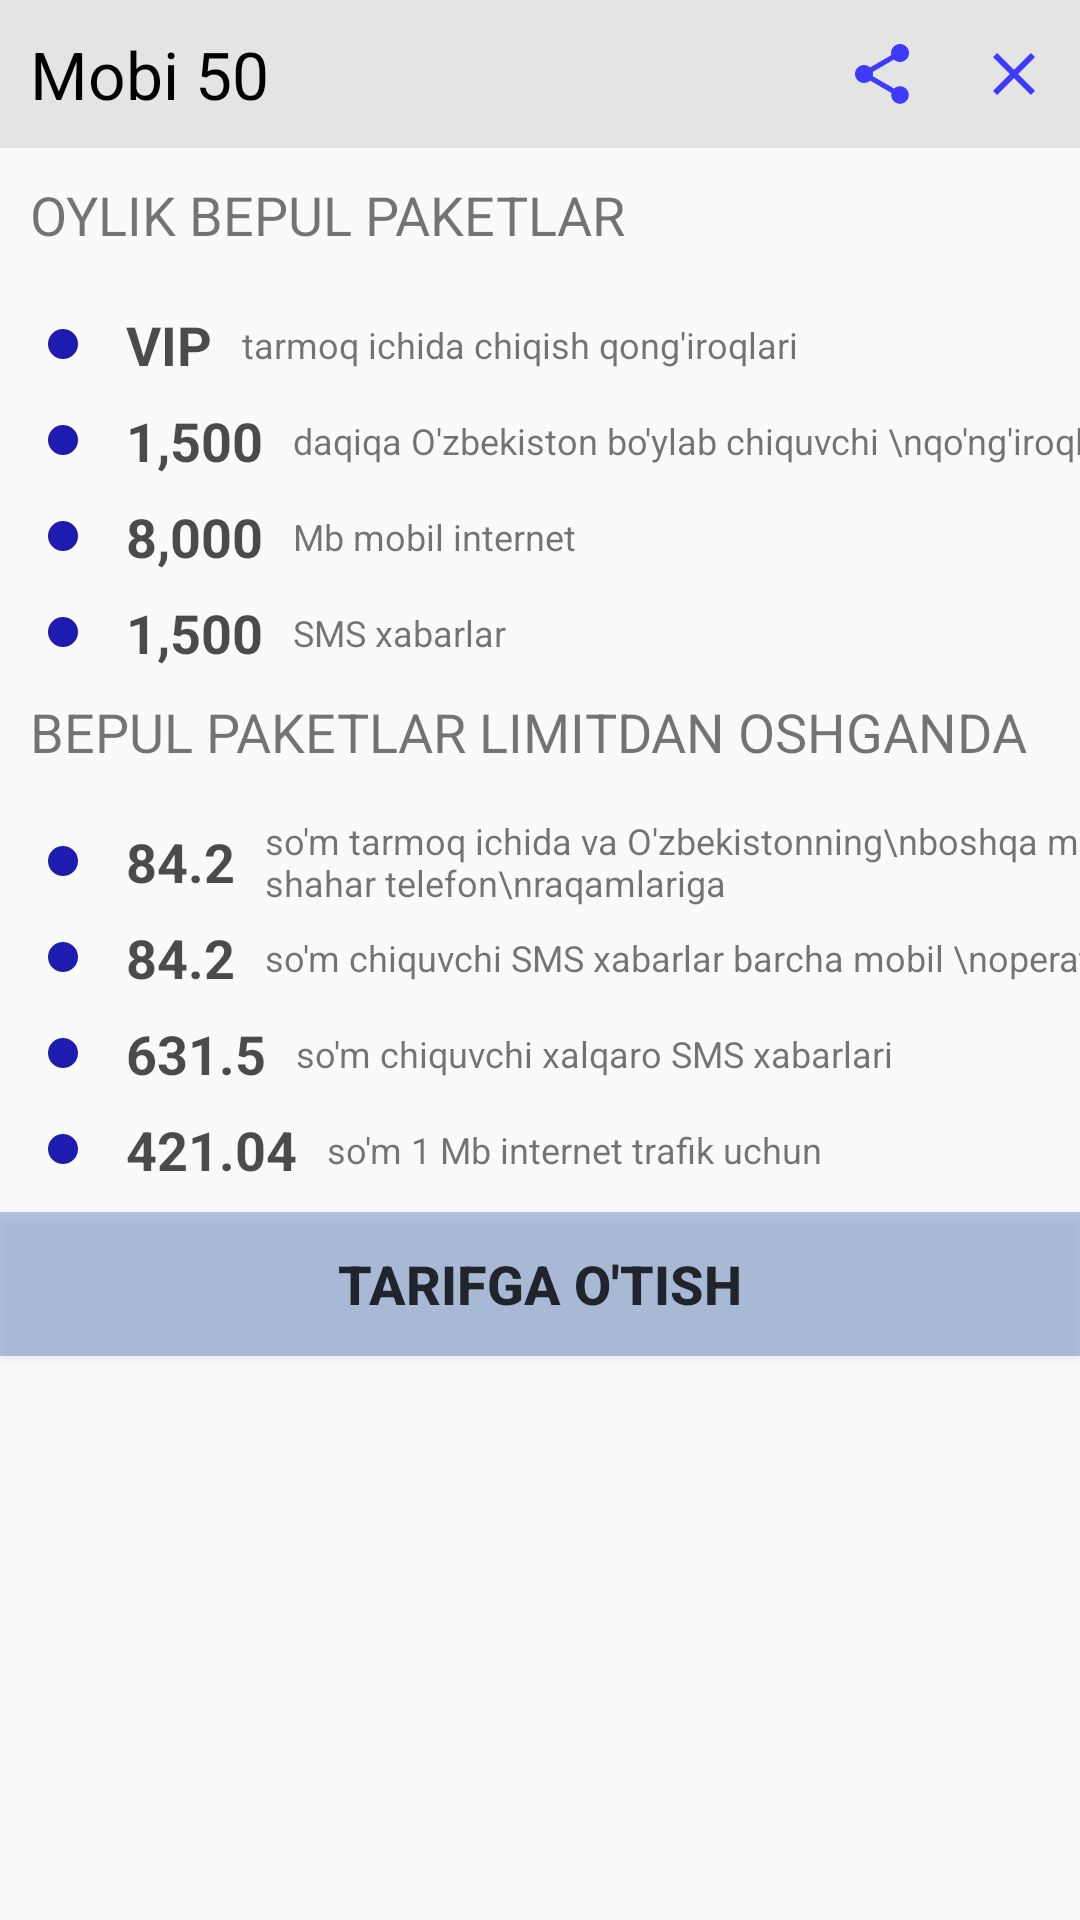

Where to tap for icons on this 1080×1920 app screen, as [x,y]:
clear: [1014,74]
share: [882,74]
